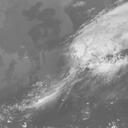cyclone: (47, 37, 98, 94)
